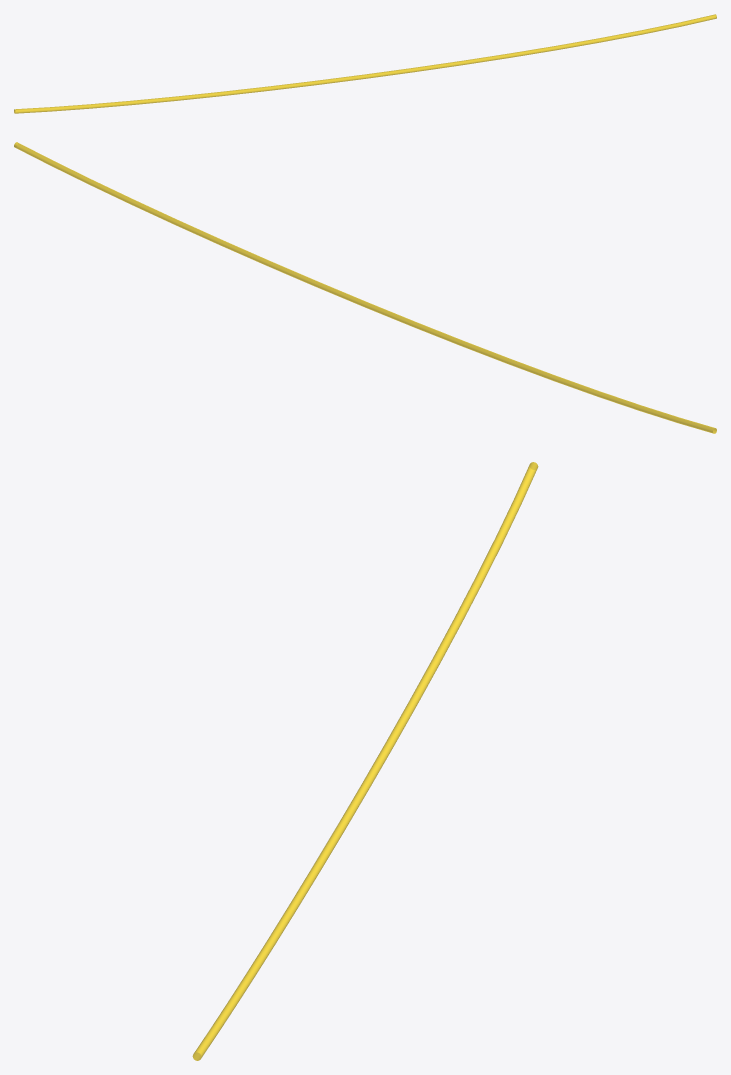
The model's file is Event_419990632_track_15.fbx.
3 renders of one model, top to bottom at view 1: azimuth 30°, elevation 25°; view 2: azimuth 150°, elevation 25°; view 3: azimuth 270°, elevation 25°, orthographic. The views are drawn at different scales.
Visible parts, largest first — view 1: Model; view 2: Model; view 3: Model.
Part boxes in pixels (<box>): Model: <box>14,14,716,113</box>; Model: <box>14,142,716,433</box>; Model: <box>192,462,538,1060</box>.
Size of the model in its own units: 6.34 by 0.1953 by 1.53.
